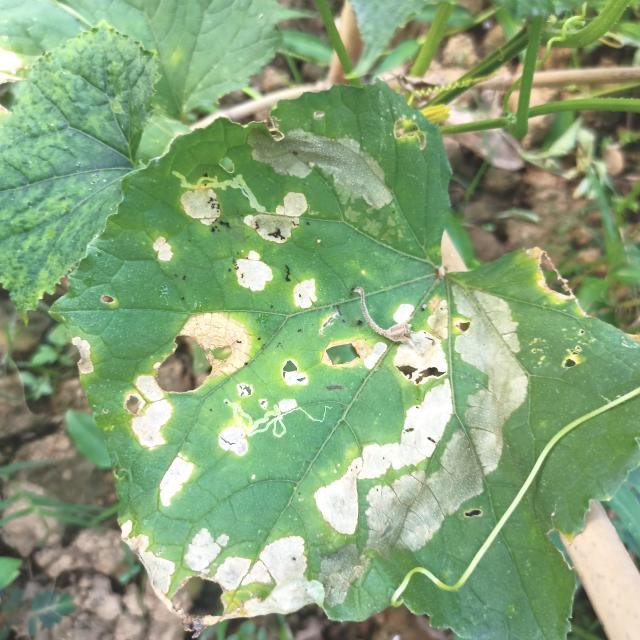disease_cucumber: (239, 278, 530, 625), (72, 310, 253, 614), (144, 131, 381, 304)
